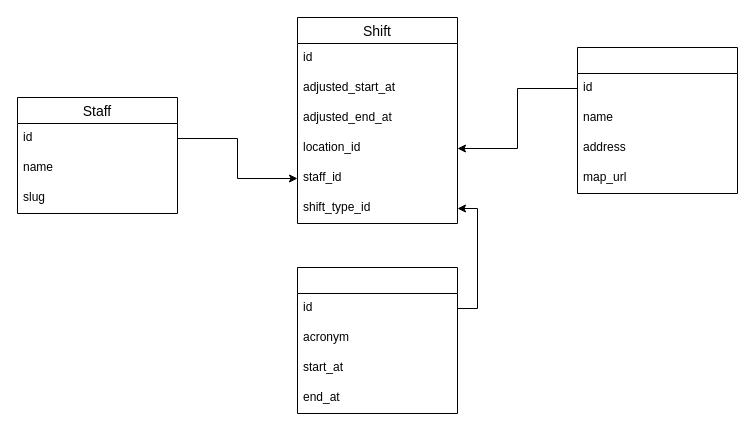
The diagram is 755 pixels wide and 434 high, and some of its shapes have lost their labels. Here are the shapes that lost their labels. From the top down, the box of each, then its label:
(576, 46, 738, 194): Location
(296, 266, 458, 414): ShiftTypes
